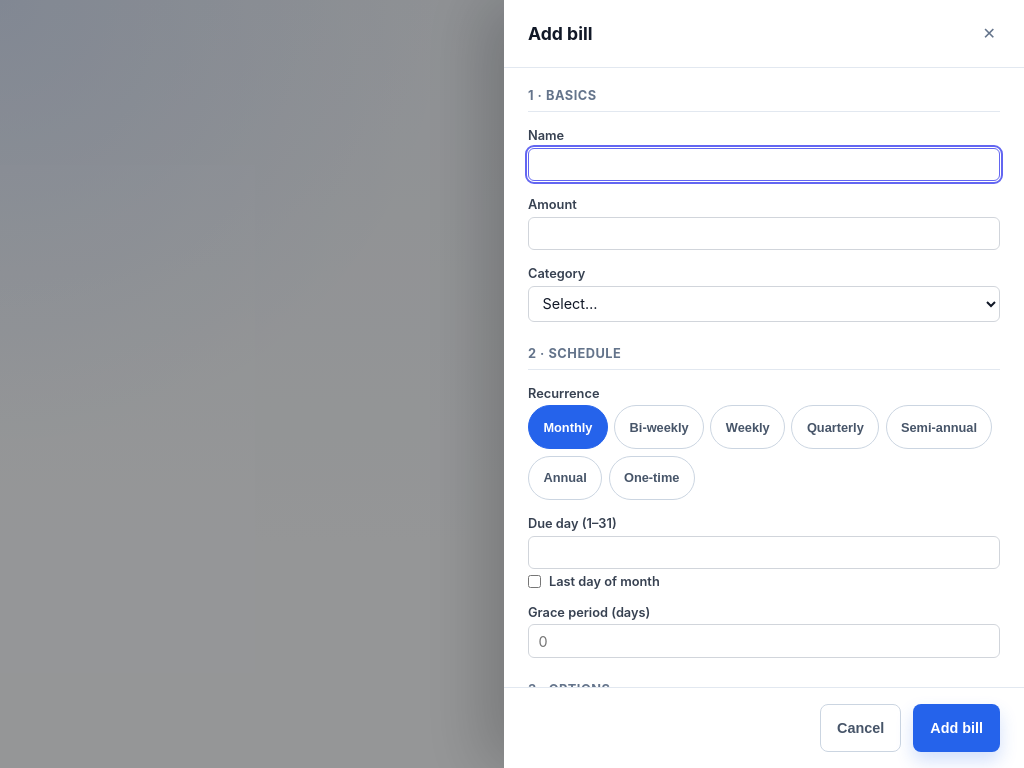
it: BillFormModal — add mode › switches to due-date field when recurrence changes to biweekly
Click the button "Bi-weekly": (659, 427) [614, 405, 704, 449]
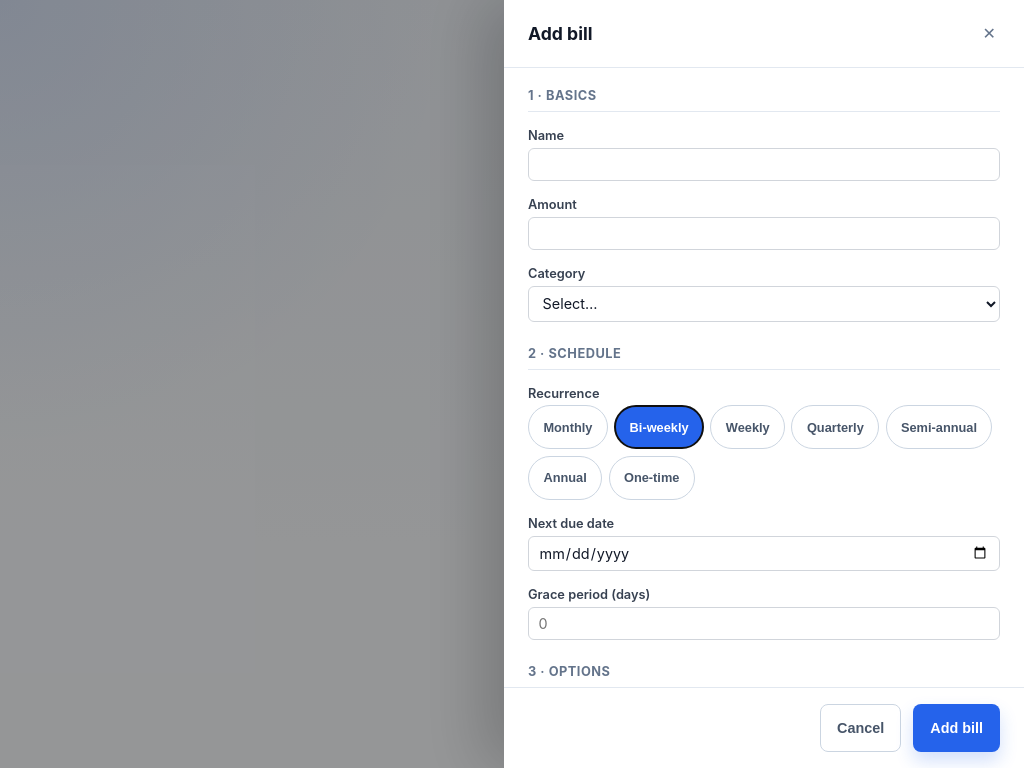
Expected: the date field labelled "Next due date" is shown, [528, 536, 1000, 571]
Result: the label labelled "Due day" is gone
